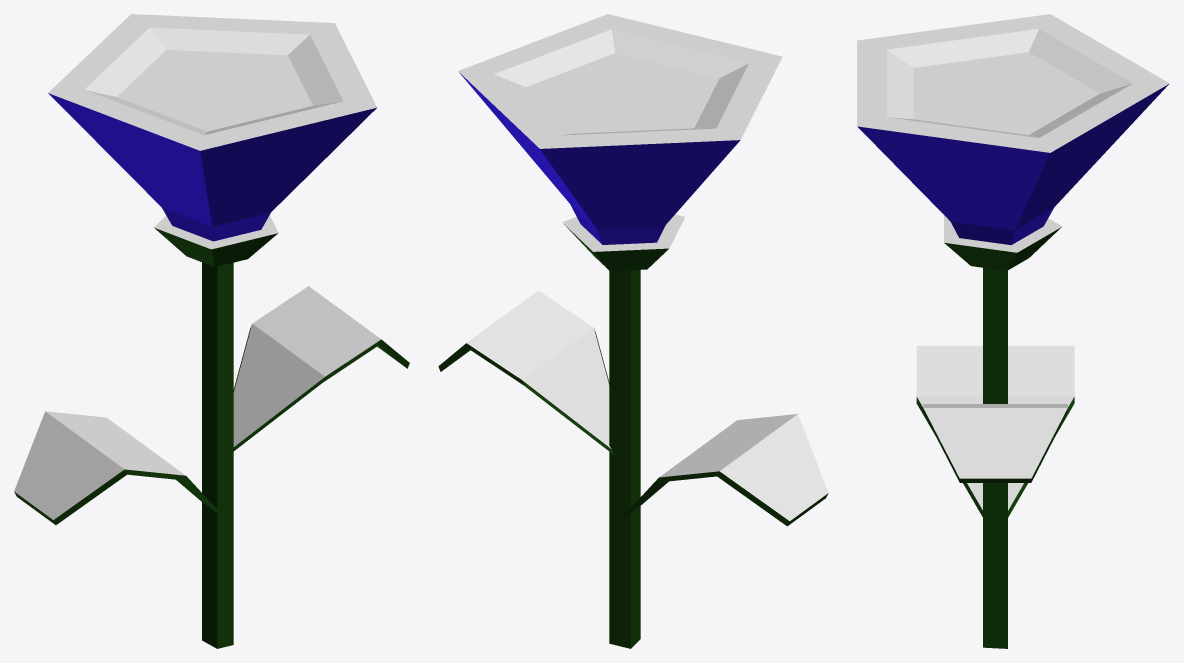
The model's file is Flower_4_Snow.fbx.
The picture shows the model from 3 angles, left to right: view 1: azimuth 30°, elevation 25°; view 2: azimuth 150°, elevation 25°; view 3: azimuth 270°, elevation 25°; orthographic projection.
Visible parts, largest first — view 1: Flower_4_Snow; view 2: Flower_4_Snow; view 3: Flower_4_Snow.
Part boxes in pixels (bbox=[...]): Flower_4_Snow: bbox=[14, 14, 409, 648]; Flower_4_Snow: bbox=[438, 14, 828, 648]; Flower_4_Snow: bbox=[857, 14, 1169, 648].
Bounding box in the file's own units: 61.89 × 93.15 × 47.14.
